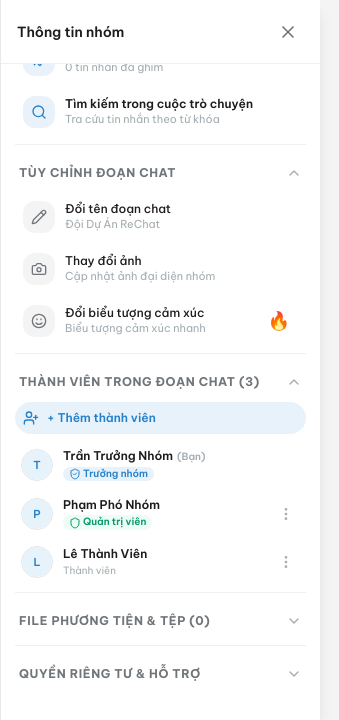
ChatDetailDrawer Component Tests › handles member actions (promote/demote/kick/transfer owner)
Later steps or results of the test are not shown.
(page scrolled)
Note: Open dropdown for user-3 (member_user - role MEMBER)
Click the button with test id "member-actions-user-3": click(286, 562) 274,550 -> 298,574
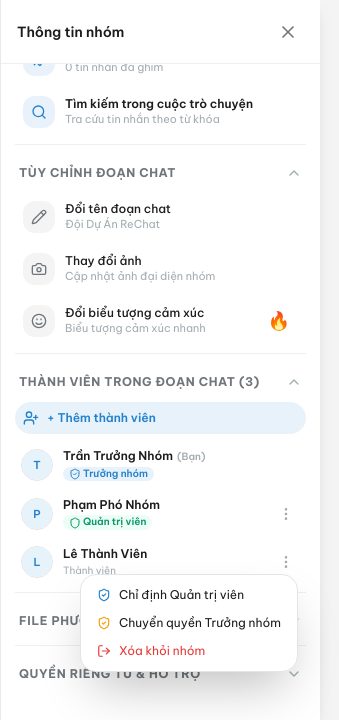
expect the menu item with test id "promote-member-user-3" is shown: met, box 97,587 -> 244,602
